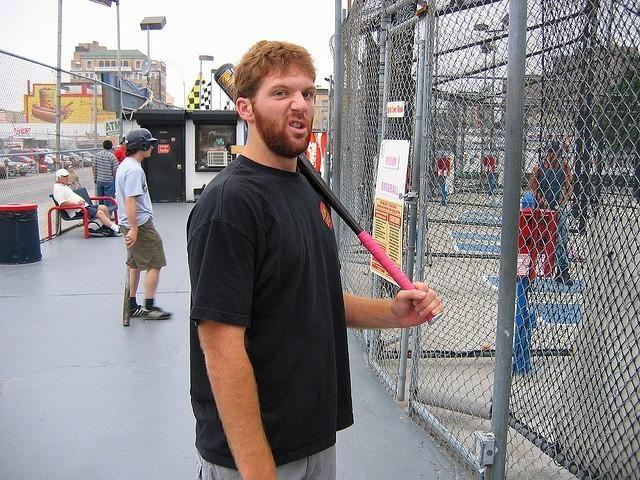car: (19, 150, 56, 166), (0, 156, 29, 176), (66, 152, 94, 167), (8, 156, 34, 165)
